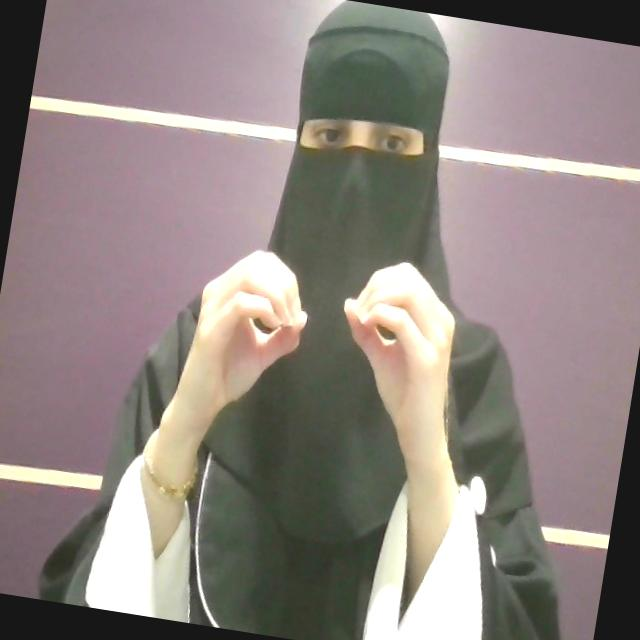analysis: (173, 227, 477, 456)
